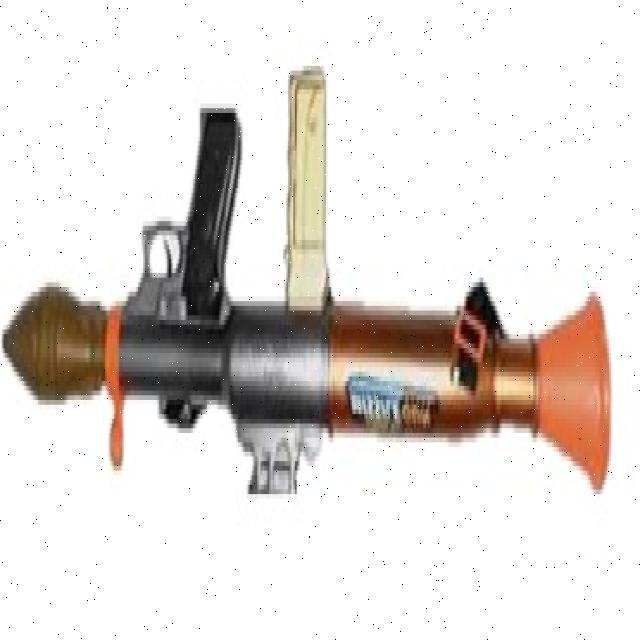bazooka: (5, 56, 616, 520)
